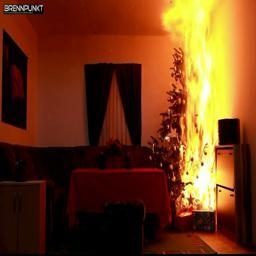fire: (157, 1, 256, 217)
